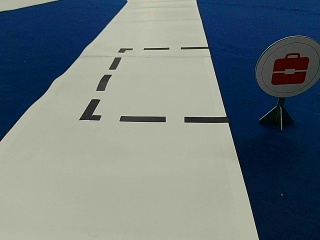company: (255, 36, 318, 96)
